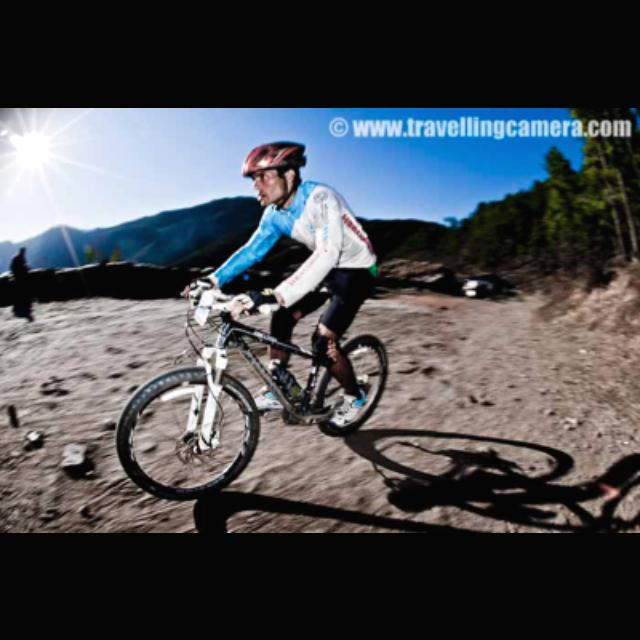With Helmet: (240, 136, 308, 197)
